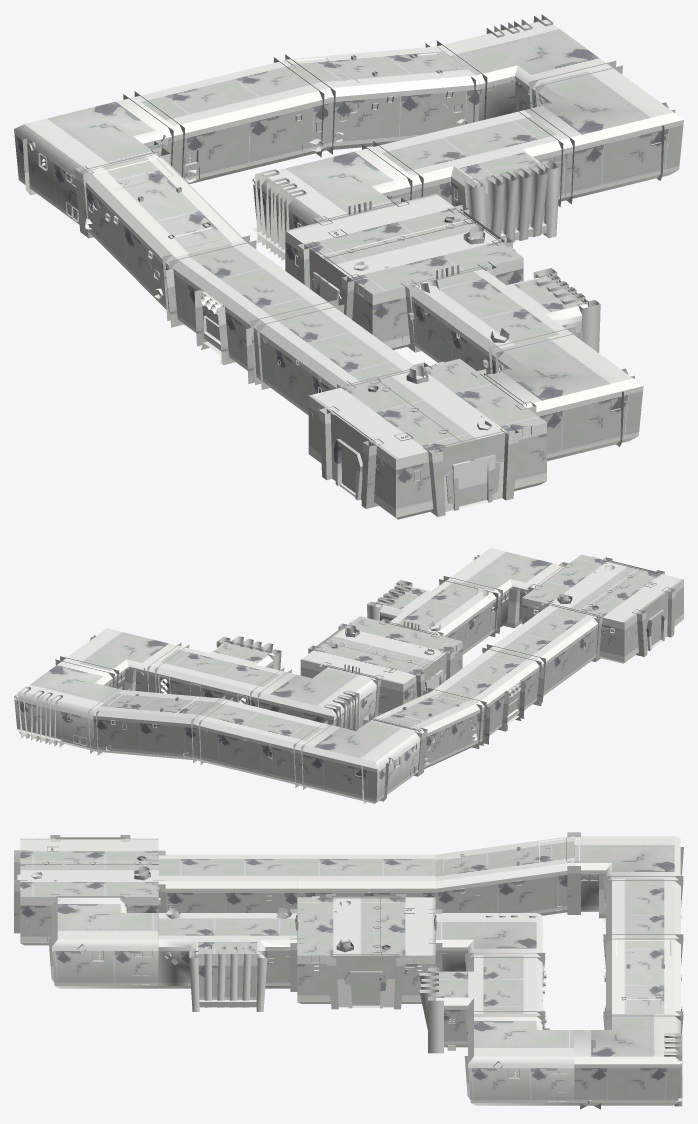
Rendered from Combined_Mesh_root_scene_b20ae4d5__zombies2_diffuse_11_814463c1_c1f257.obj.
The picture shows the model from 3 angles, top to bottom: view 1: azimuth 30°, elevation 25°; view 2: azimuth 150°, elevation 25°; view 3: azimuth 270°, elevation 25°; orthographic projection. The views are drawn at different scales.
Bounding box in the file's own units: 77.06 × 11.5 × 96.9.
233 materials, 233 textured.
